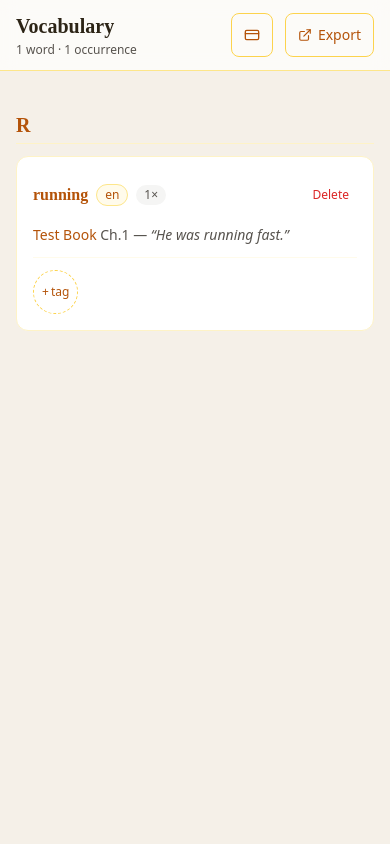
Test: lemma indicator span has aria-label 'base form: <lemma>' when lemma differs from word
What coordinates should you click on to do the following:
click the button "running"
I would click on:
 (61, 195)
Its box is [33,173,88,217].
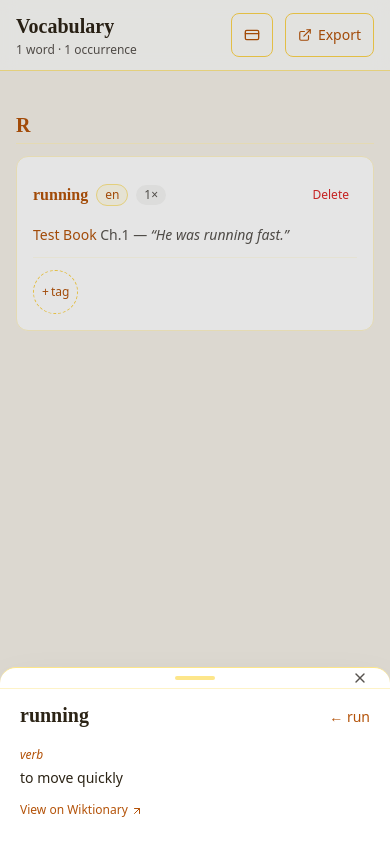
Check: the text "to move quickly" is shown, box [20,768,123,787]
